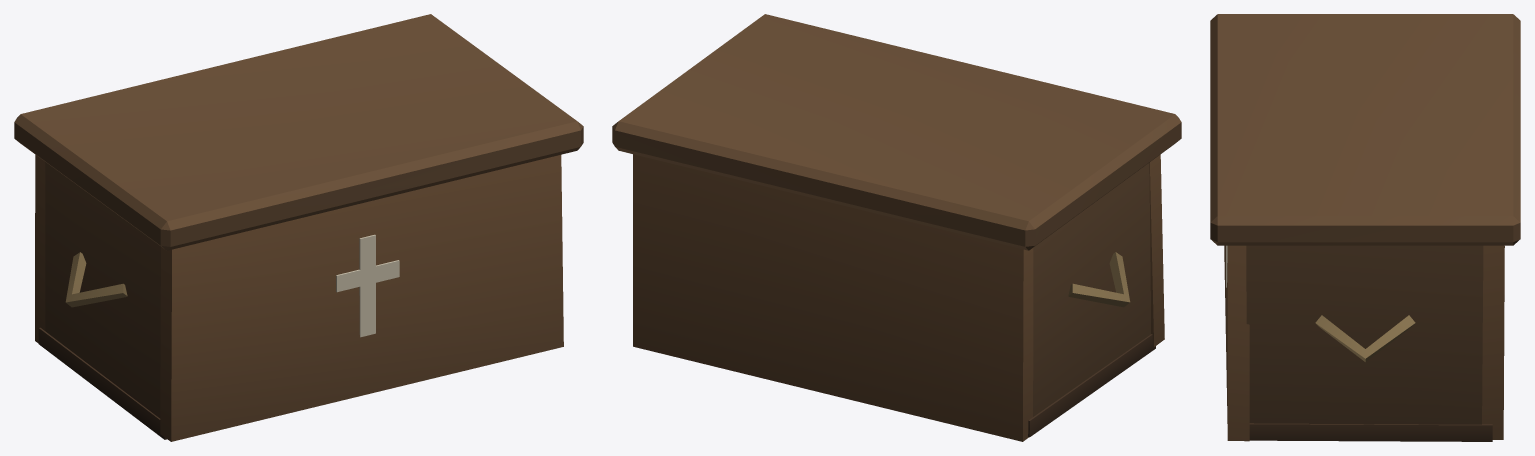
The model's file is ph_int_bone_box.glb.
3 renders of one model, left to right at view 1: azimuth 30°, elevation 25°; view 2: azimuth 150°, elevation 25°; view 3: azimuth 270°, elevation 25°, orthographic.
Parts seen in each view (by area): view 1: ph_int_bone_box; view 2: ph_int_bone_box; view 3: ph_int_bone_box.
Boxes of the visible parts, x1,y1,x2,y2 form: ph_int_bone_box: [14, 14, 583, 441]; ph_int_bone_box: [612, 14, 1181, 441]; ph_int_bone_box: [1210, 14, 1520, 441].
Bounding box in the file's own units: 0.596 × 0.2789 × 0.34.
